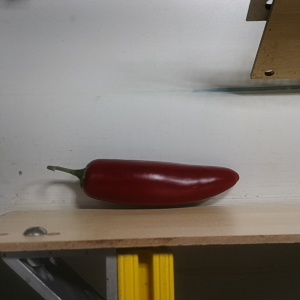Cut Point: (73, 157, 104, 200)
